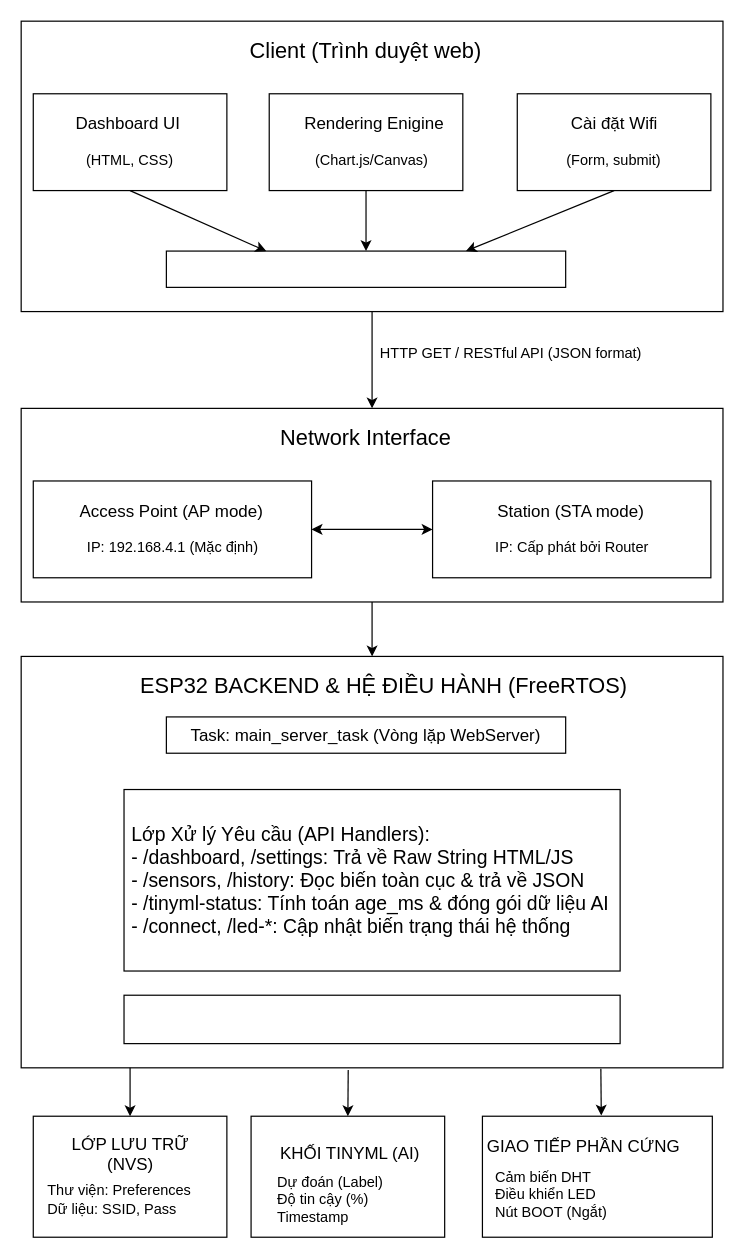
The diagram is 744 pixels wide and 1258 high, and some of its shapes have lost their labels. The shapes that lost their labels are listed below. From the top down, each one's box as (x1, y1, x2, y2) in pixels, then its label:
(165, 250, 566, 287): Fetch API (AJAX polling mỗi 3s/5s)
(123, 994, 620, 1044): Cơ chế Đồng bộ: xBinarySemaphoreInternet (Kích hoạt tác vụ)
